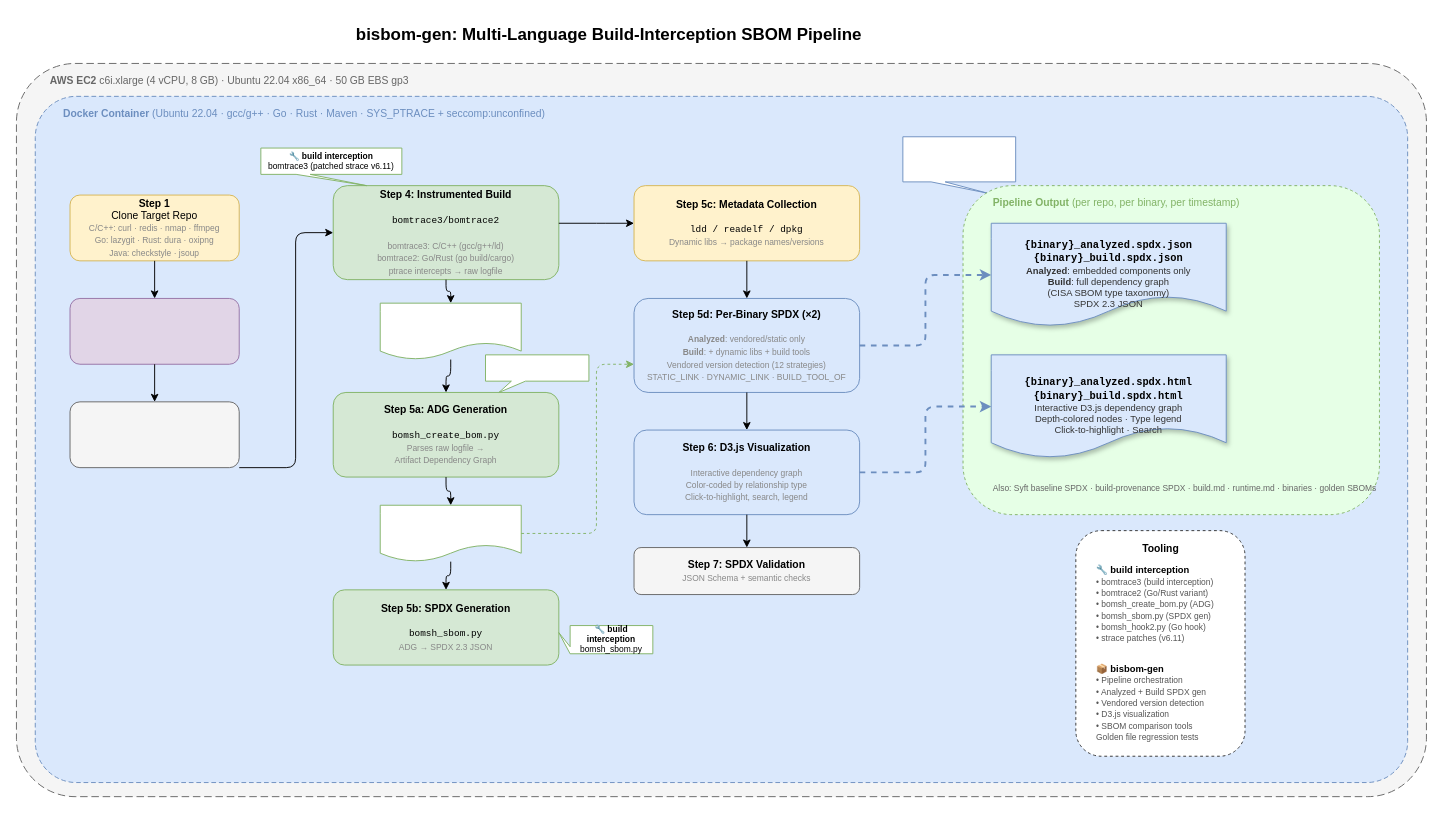
Image size: 1443x813. Some labels were removed from this diagram. Here are the shapes that lost their labels. From the top down, the centre of each, then its label:
At point (959, 164): "📦 bisbom-gen app/spdx/generator.py app/spdx/emitter.py app/version_detection/".
At point (154, 331): "Step 2 Syft Baseline SBOM Manifest-based scan (comparison baseline)".
At point (450, 331): "raw_logfile.sha1 Every compiler/linker call with input → output mappings".
At point (537, 373): "🔧 build interception bomsh_create_bom.py".
At point (154, 434): "Step 3 Validate apt Deps Install build dependencies (libssl-dev, zlib1g-dev...)".
At point (450, 533): "ADG treedb + docs gitoid hash trees + ADG docs".
